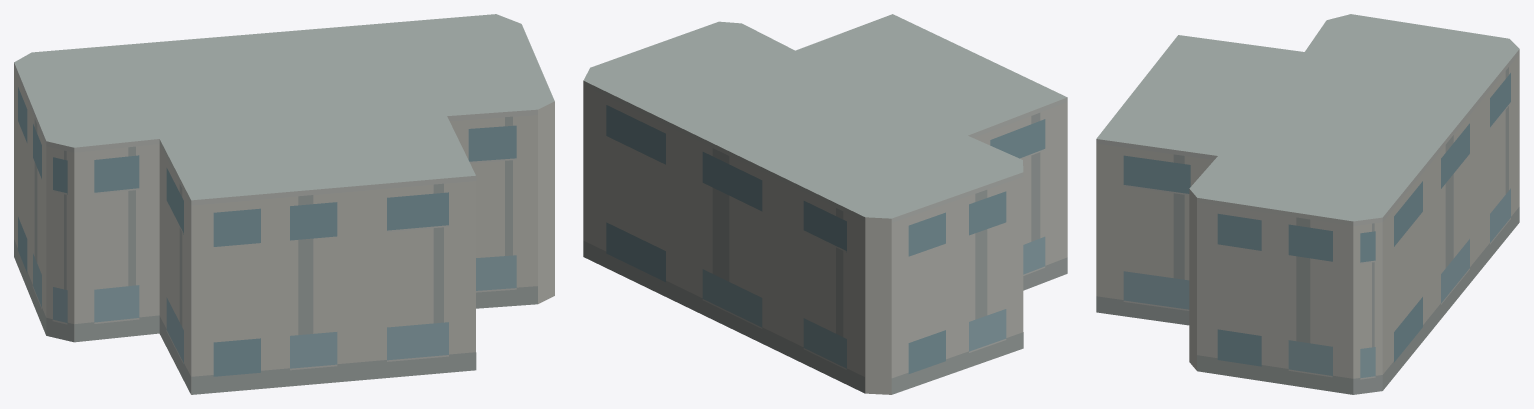
The model's file is survey-upis-32808711.glb.
3 renders of one model, left to right at view 1: azimuth 30°, elevation 25°; view 2: azimuth 150°, elevation 25°; view 3: azimuth 270°, elevation 25°, orthographic. The views are drawn at different scales.
Visible parts, largest first — view 1: survey-upis-32808711.tmp; view 2: survey-upis-32808711.tmp; view 3: survey-upis-32808711.tmp.
Boxes of the visible parts, x1,y1,x2,y2 form: survey-upis-32808711.tmp: [14, 14, 554, 394]; survey-upis-32808711.tmp: [583, 14, 1067, 394]; survey-upis-32808711.tmp: [1096, 14, 1519, 394].
Bounding box in the file's own units: 23.47 × 9.15 × 20.25.
